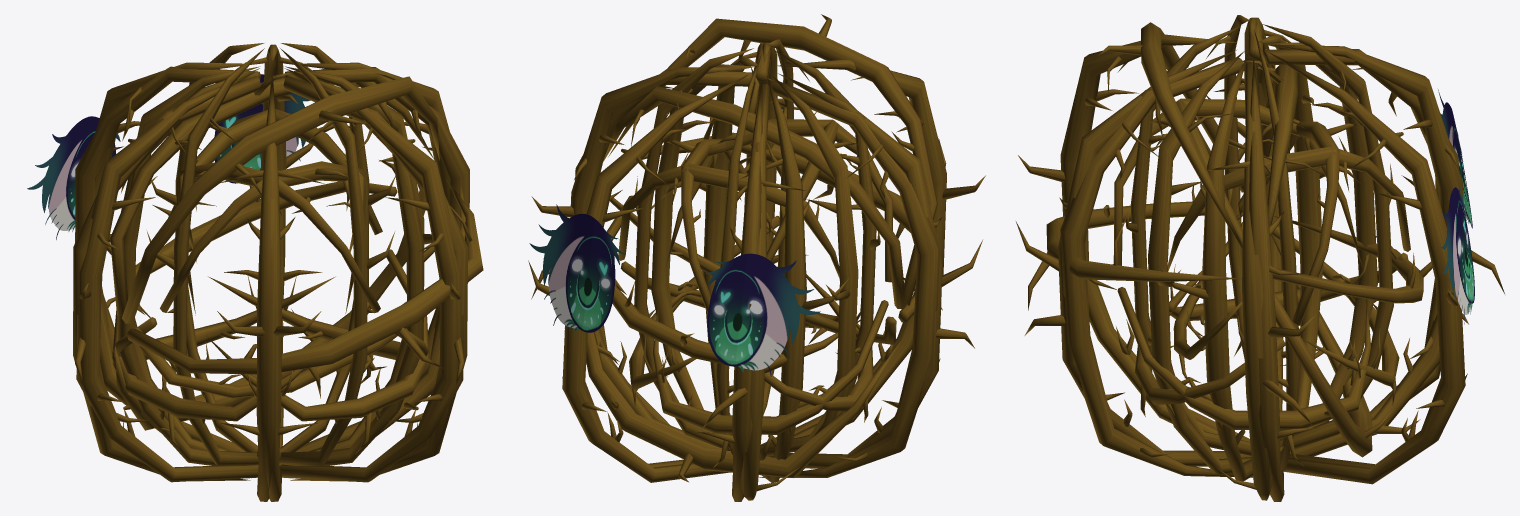
Rendered from tumbleweed.fbx.
3 views of the same model, side by side, from view 1: azimuth 30°, elevation 25°; view 2: azimuth 150°, elevation 25°; view 3: azimuth 270°, elevation 25° (orthographic). The views are drawn at different scales.
Parts seen in each view (by area): view 1: tumbleweed_chan; view 2: tumbleweed_chan; view 3: tumbleweed_chan.
Part boxes in pixels (box(x1,y1,x2,y2)): tumbleweed_chan: box(27, 43, 483, 501); tumbleweed_chan: box(528, 14, 985, 501); tumbleweed_chan: box(1016, 15, 1504, 501).
Size of the model in its own units: 100 by 100 by 100.
